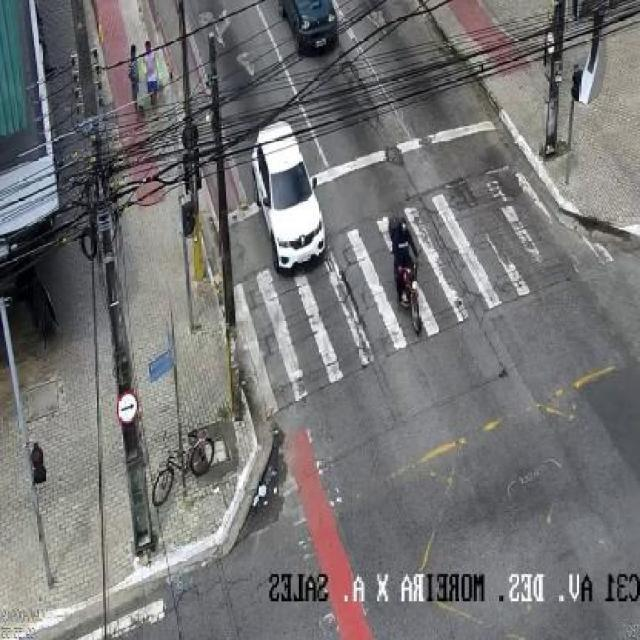Car: (250, 120, 327, 272), (279, 0, 342, 57)
Cycle: (151, 429, 217, 510), (395, 258, 424, 333)
